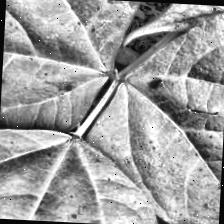ALS: (78, 1, 224, 224), (0, 0, 138, 136), (0, 129, 168, 224)
